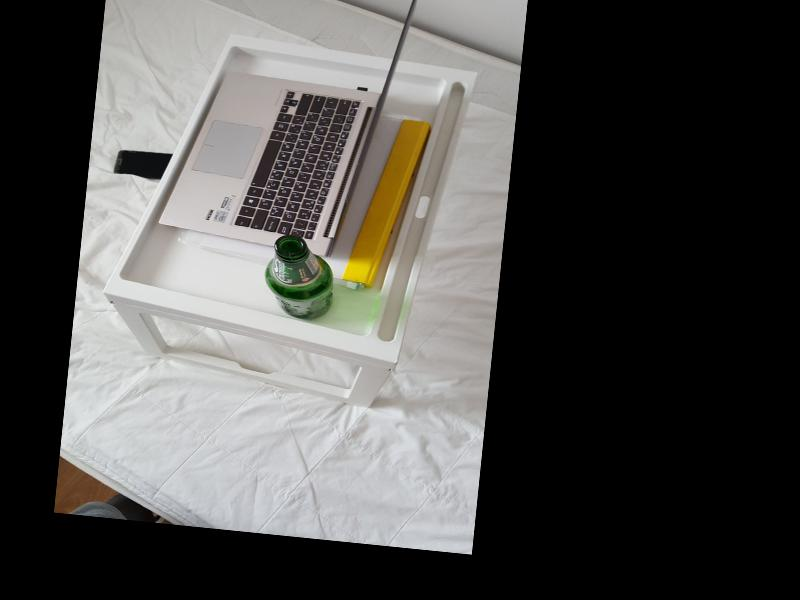Beer: (260, 233, 338, 323)
